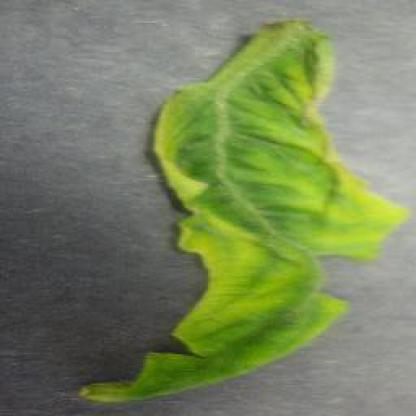good leaf: (80, 31, 398, 414), (203, 140, 211, 155)
